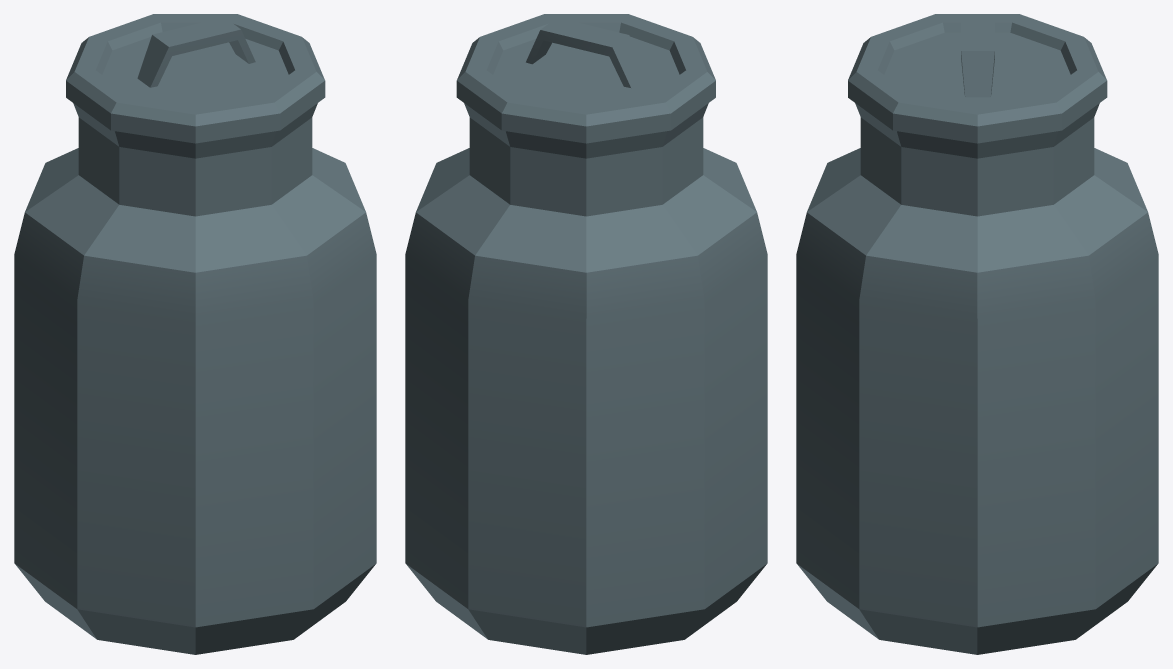
The model's file is milktank_a001.glb.
3 renders of one model, left to right at view 1: azimuth 30°, elevation 25°; view 2: azimuth 150°, elevation 25°; view 3: azimuth 270°, elevation 25°, orthographic.
Visible parts, largest first — view 1: milktank_a001; view 2: milktank_a001; view 3: milktank_a001.
Part boxes in pixels (x1,y1,x2,y2): milktank_a001: [14, 14, 376, 654]; milktank_a001: [405, 14, 767, 654]; milktank_a001: [796, 14, 1158, 654].
Bounding box in the file's own units: 0.4296 × 0.7408 × 0.4362.
1 material, 1 textured.
